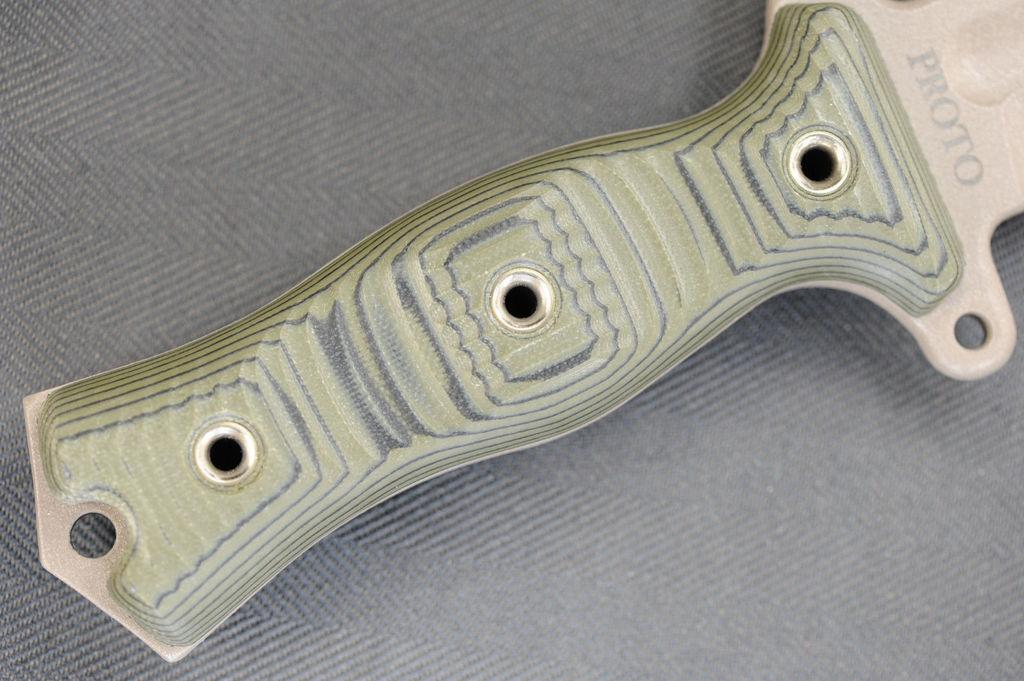Knife: (20, 0, 1023, 661)
